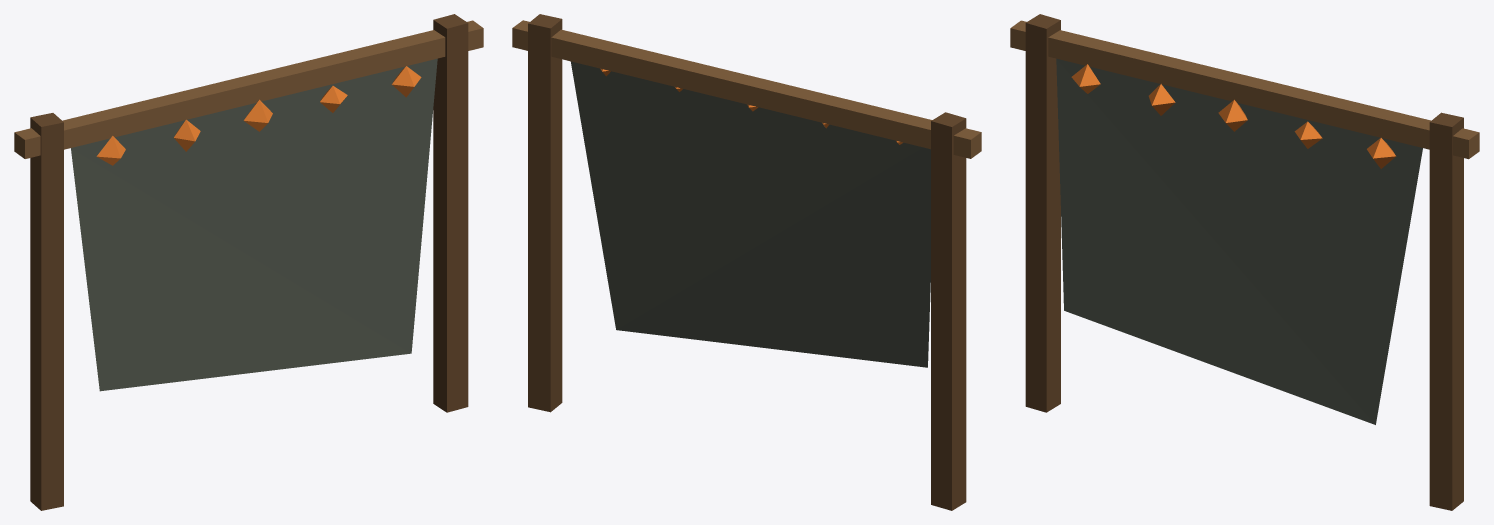
File: net_rack.glb
3 views of the same model, side by side, from view 1: azimuth 30°, elevation 25°; view 2: azimuth 150°, elevation 25°; view 3: azimuth 330°, elevation 25° (orthographic).
Visible parts, largest first — view 1: net_rack2; view 2: net_rack2; view 3: net_rack2.
Boxes of the visible parts, box(x1,y1,x2,y2) form: net_rack2: box(14, 14, 483, 510); net_rack2: box(512, 14, 981, 510); net_rack2: box(1010, 14, 1479, 510).
Size of the model in its own units: 2.5 by 2 by 0.2515.
